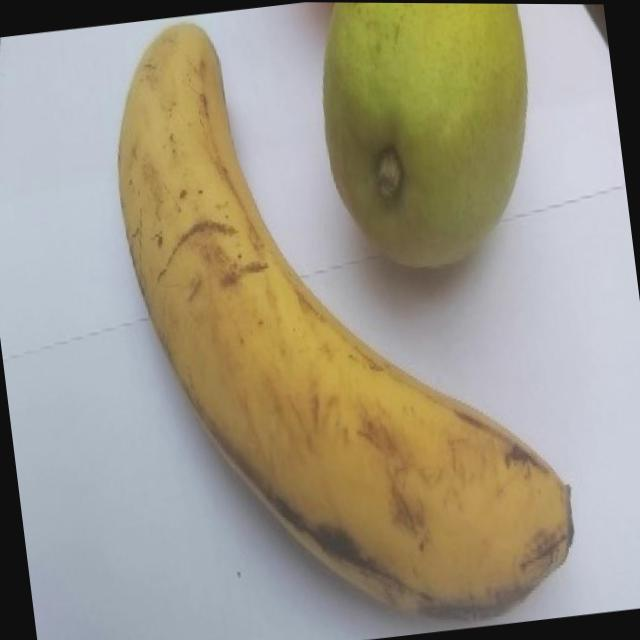Banana: (99, 1, 586, 640)
